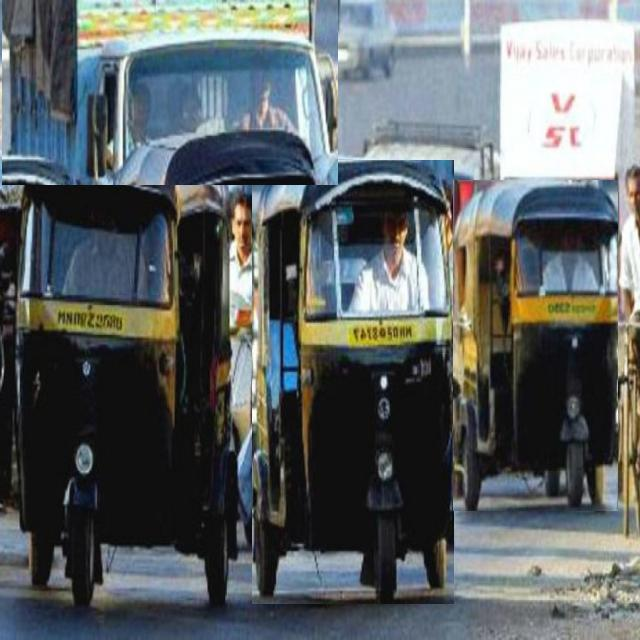autorickshaw: (16, 129, 234, 604), (252, 161, 454, 604), (454, 180, 618, 511)
truck: (2, 0, 338, 185)
